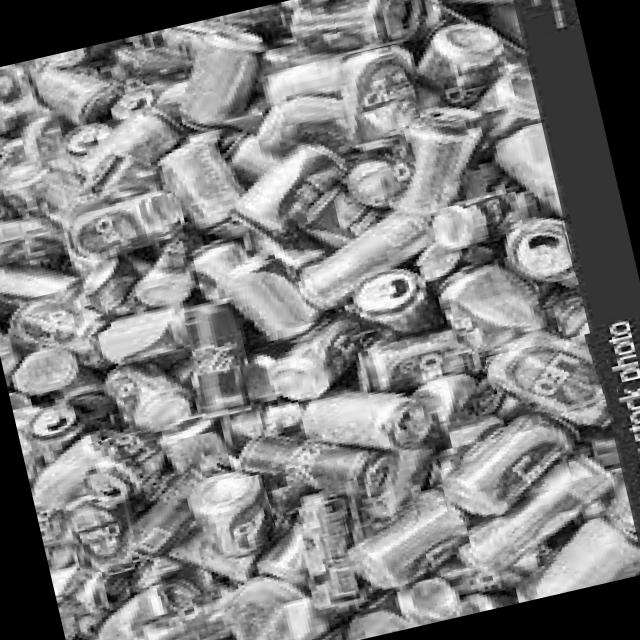Cans: (468, 470, 626, 578), (484, 329, 620, 430), (434, 422, 574, 516), (360, 488, 476, 588), (379, 111, 487, 212), (231, 150, 348, 234), (269, 311, 372, 404), (171, 302, 251, 421), (49, 40, 150, 128), (326, 41, 419, 136), (71, 191, 184, 260), (357, 326, 475, 390), (308, 388, 427, 451), (290, 498, 362, 600), (189, 472, 277, 555), (233, 250, 309, 344), (130, 577, 243, 640), (264, 448, 375, 508), (299, 0, 426, 51), (461, 254, 532, 343), (65, 493, 135, 580), (426, 190, 524, 250), (15, 292, 111, 348), (361, 262, 435, 334), (86, 428, 162, 496), (520, 217, 578, 286)
